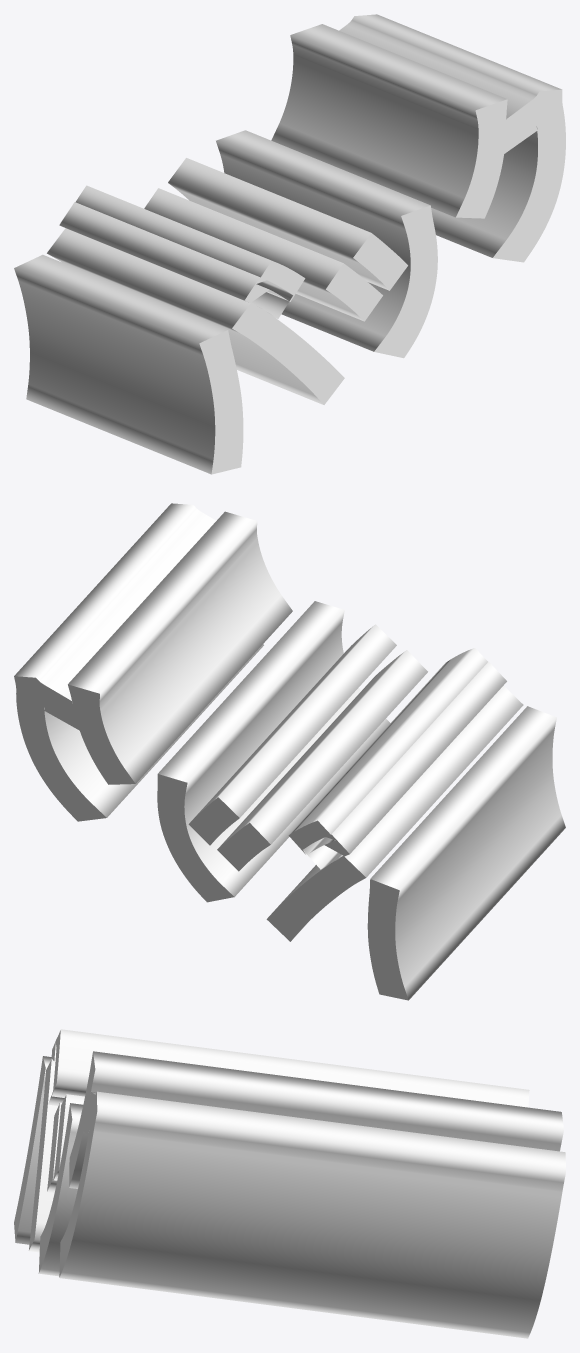
File: Title_Back.obj
The picture shows the model from 3 angles, top to bottom: view 1: azimuth 30°, elevation 25°; view 2: azimuth 150°, elevation 25°; view 3: azimuth 270°, elevation 25°; orthographic projection. The views are drawn at different scales.
Parts seen in each view (by area): view 1: テキスト.001; view 2: テキスト.001; view 3: テキスト.001.
Part boxes in pixels (left/top/right/bottom): テキスト.001: left=14, top=14, right=565, bottom=474; テキスト.001: left=14, top=503, right=565, bottom=1000; テキスト.001: left=14, top=1029, right=565, bottom=1338.
Bounding box in the file's own units: 2.57 × 2.02 × 2.32.
